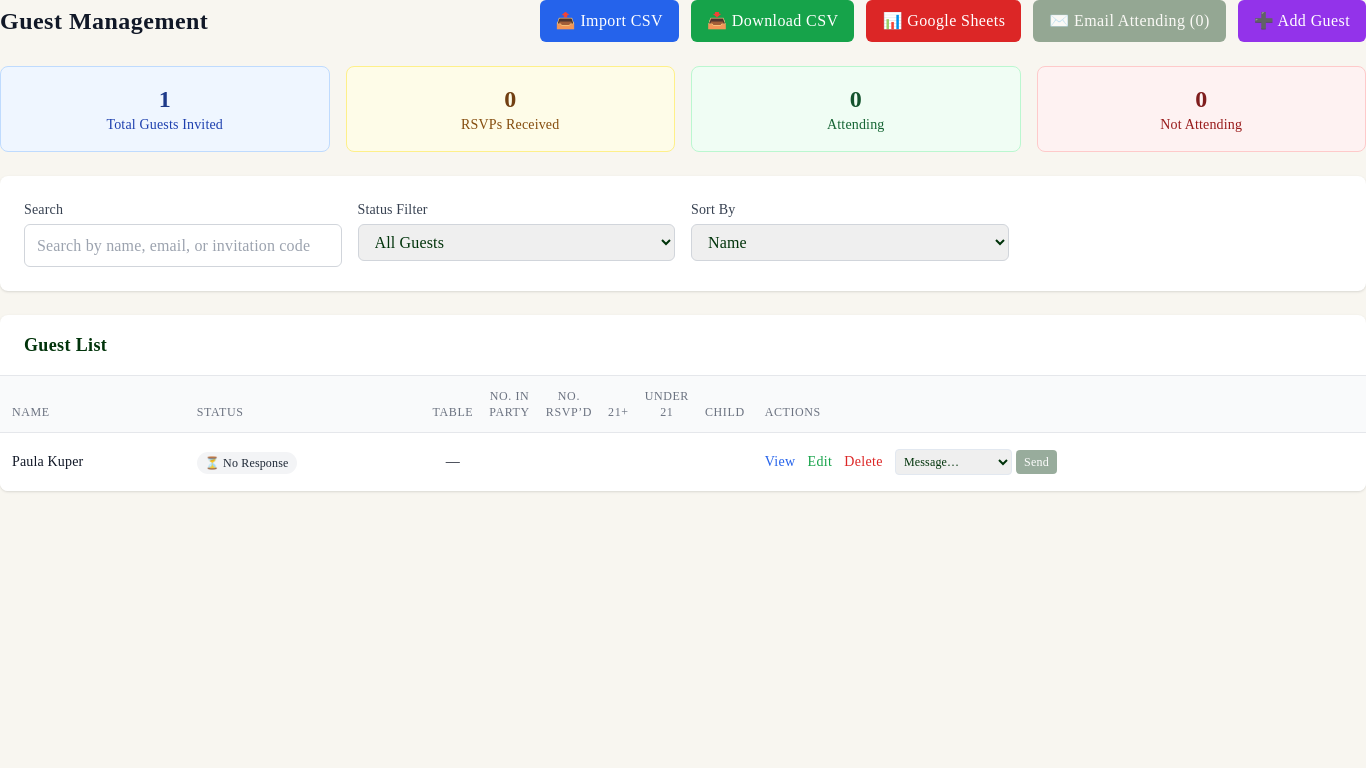
it: no longer offers a Partner Email field
Expected: the text "Paula Kuper" is shown, [12,454,83,469]
Click the button "Edit": (820, 462) [808,452,832,472]
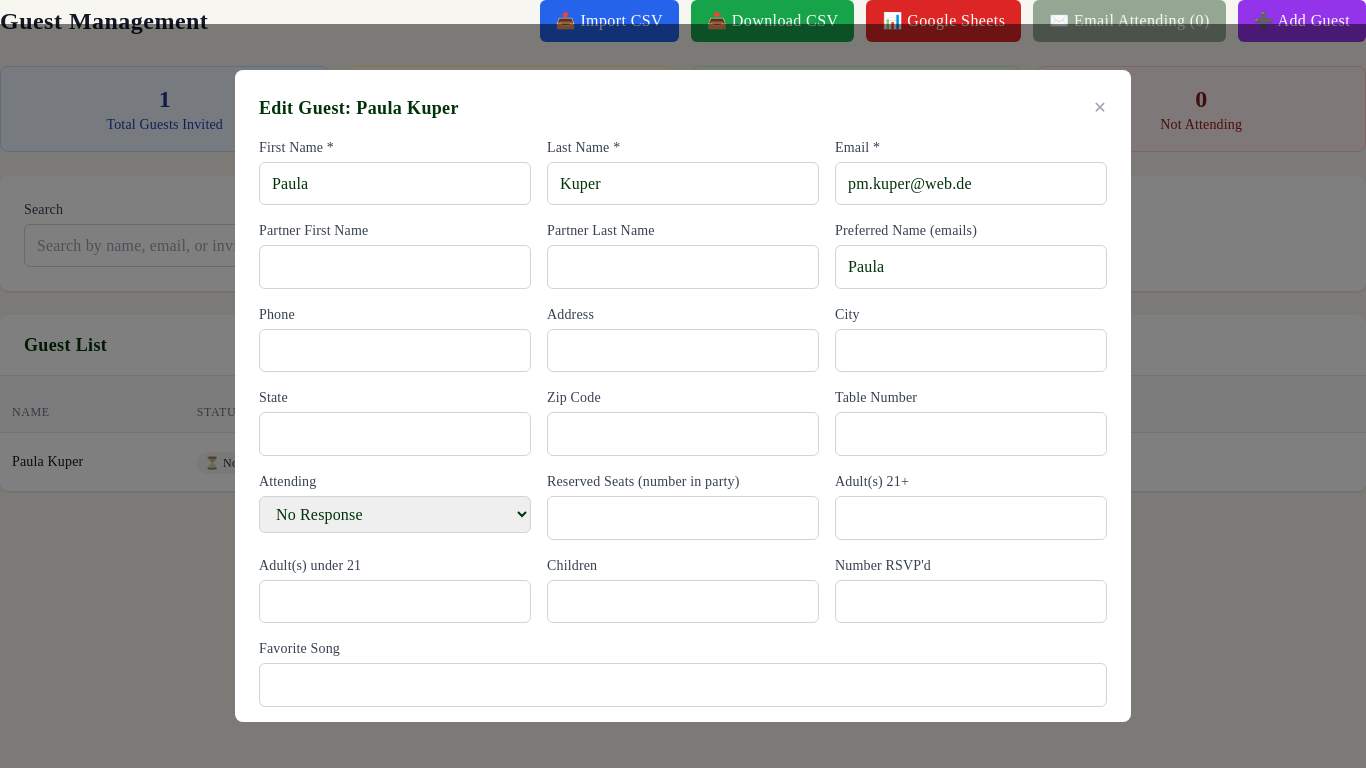
Expected: the heading "Edit Guest: Paula Kuper" is shown, [259,94,459,122]
Expected: the text "Partner First Name" is shown, [259,223,368,238]
Expected: the text "Partner Last Name" is shown, [547,223,655,238]
